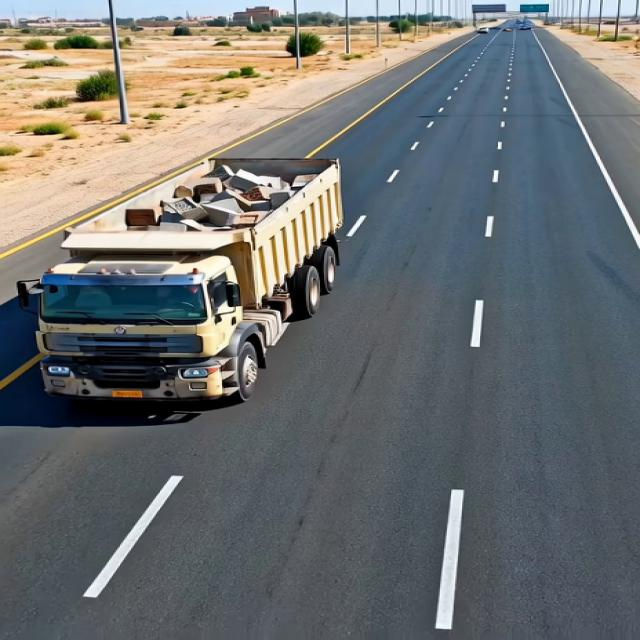Box: (64, 160, 347, 254)
Truck: (19, 141, 367, 407)
